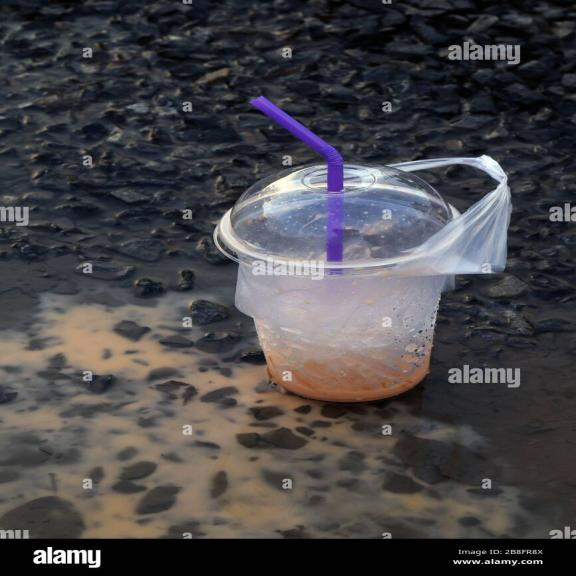Plastik: (215, 165, 492, 401)
